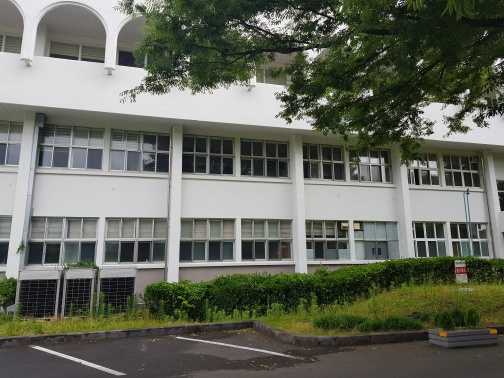Main Building of University: (6, 2, 503, 290), (23, 97, 301, 274)
